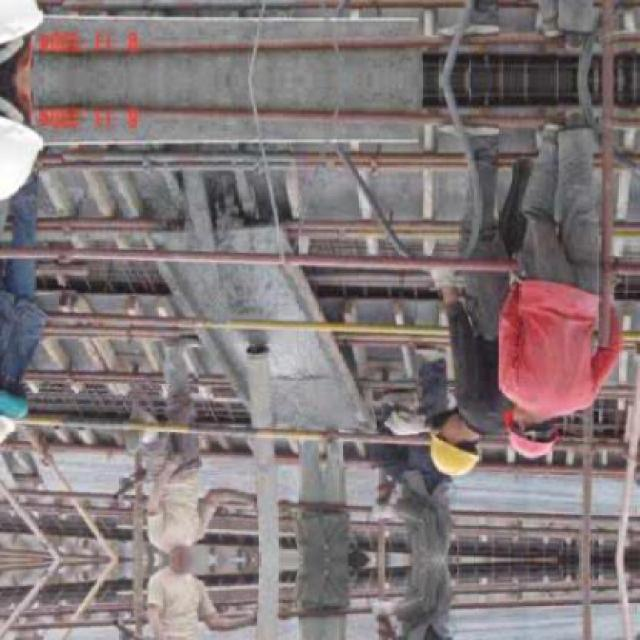con casco: (416, 388, 493, 516), (503, 364, 572, 476)
